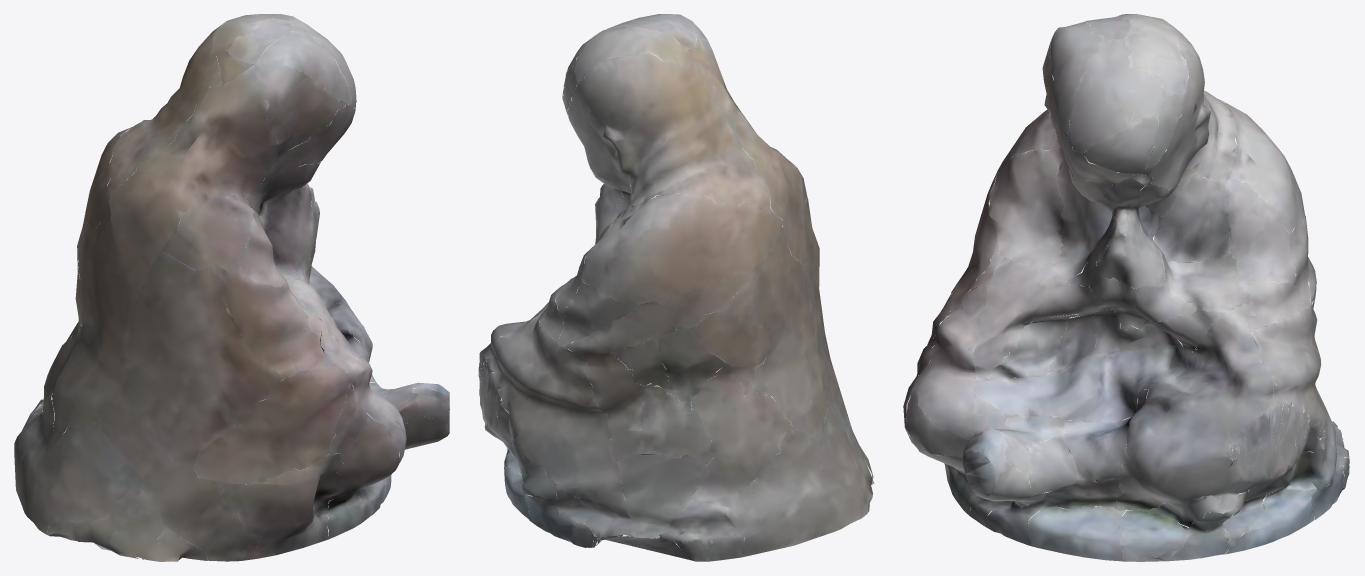
File: praying-monk.glb
3 views of the same model, side by side, from view 1: azimuth 30°, elevation 25°; view 2: azimuth 150°, elevation 25°; view 3: azimuth 270°, elevation 25° (orthographic). The views are drawn at different scales.
Parts seen in each view (by area): view 1: low; view 2: low; view 3: low.
Boxes of the visible parts, x1,y1,x2,y2 form: low: (14,14,449,561); low: (478,14,874,561); low: (903,14,1349,561).
Size of the model in its own units: 0.9701 by 1.2 by 1.01.
Materials: 1 (1 with a texture image).
